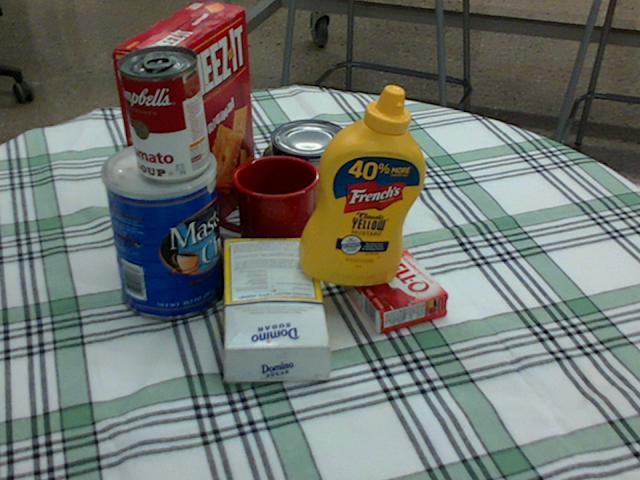cracker_box: (111, 2, 254, 248)
gelatin_box: (341, 249, 446, 334)
master_chef_can: (99, 140, 225, 320)
mug: (208, 153, 319, 258)
mustard_bottle: (298, 84, 425, 285)
potted_meat_can: (258, 139, 347, 215)
sugar_box: (223, 236, 333, 381)
tomato_soup_can: (118, 45, 209, 180)
tuna_fish_can: (269, 119, 346, 180)
